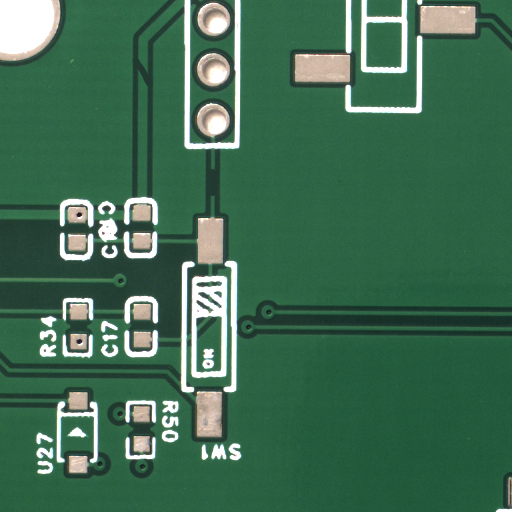Open_circuit: (143, 72, 154, 98), (210, 182, 218, 209)
